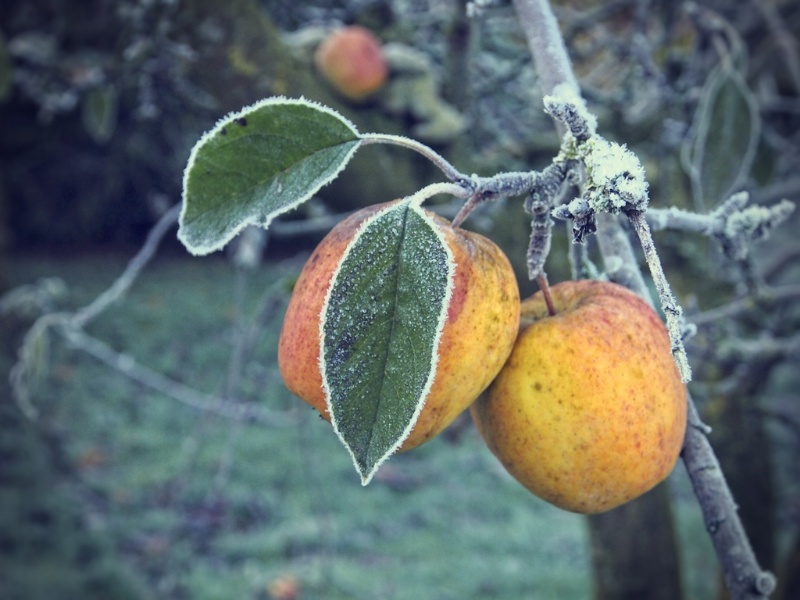apple: (284, 174, 518, 460), (500, 274, 691, 514)
